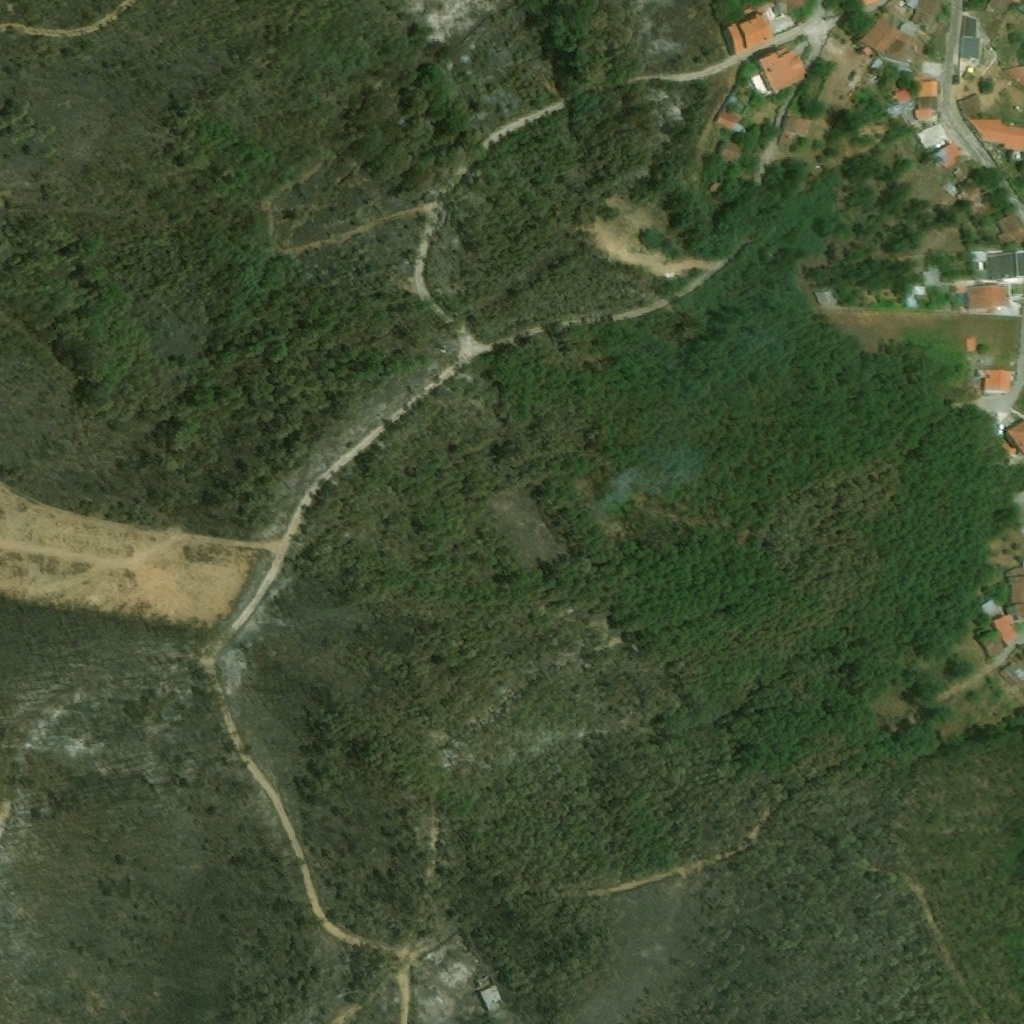0 no-damage: (855, 17, 920, 69), (752, 45, 808, 94), (721, 12, 775, 58), (960, 251, 1023, 282), (968, 118, 1023, 153), (963, 285, 1011, 313), (774, 116, 810, 152), (992, 213, 1023, 250), (475, 975, 506, 1011), (991, 612, 1021, 649), (932, 143, 964, 172), (715, 142, 750, 167), (915, 123, 948, 149), (983, 369, 1013, 394), (954, 94, 984, 119), (713, 111, 743, 132), (963, 37, 982, 60), (900, 19, 920, 40), (917, 81, 938, 97), (913, 108, 938, 120), (916, 97, 938, 110), (922, 62, 941, 76)
4 un-classified: (774, 0, 814, 19), (1005, 421, 1023, 456), (983, 0, 1016, 19), (1006, 576, 1023, 605), (1004, 66, 1023, 91), (997, 440, 1018, 461), (858, 0, 881, 9), (904, 0, 923, 9), (1015, 604, 1023, 623)
